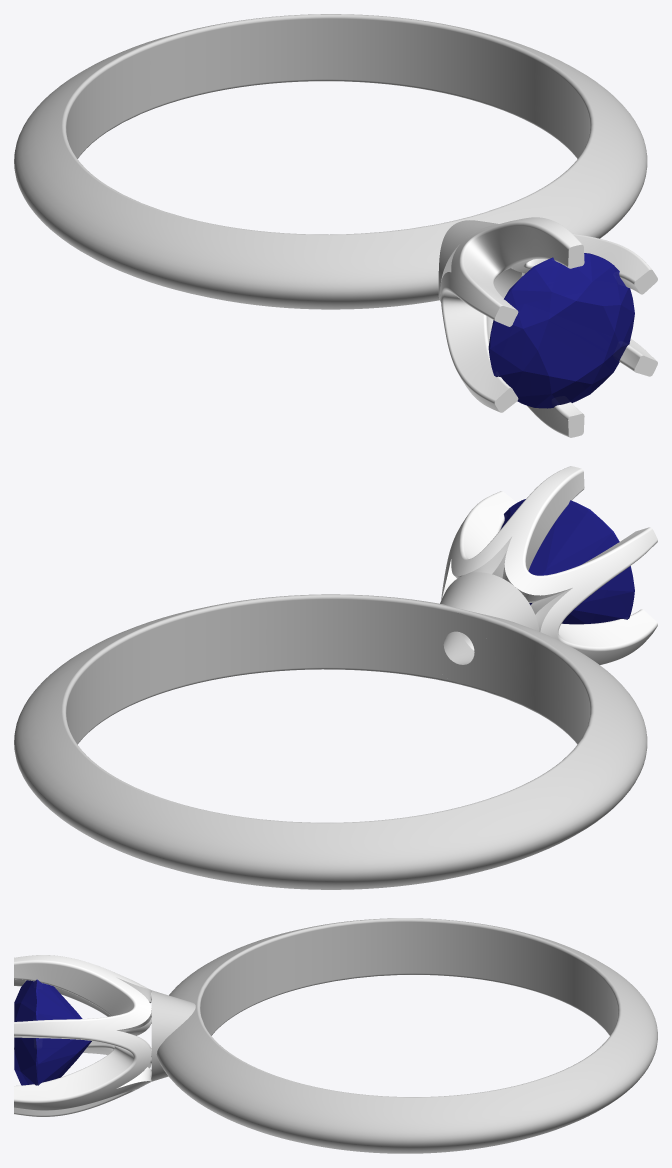
Rendered from ring.glb.
3 renders of one model, top to bottom at view 1: azimuth 30°, elevation 25°; view 2: azimuth 150°, elevation 25°; view 3: azimuth 270°, elevation 25°, orthographic. The views are drawn at different scales.
Visible parts, largest first — view 1: unspecified, Diamond_Round; view 2: unspecified, Diamond_Round; view 3: unspecified, Diamond_Round.
Part boxes in pixels (x1=…): unspecified: x1=14, y1=14, x2=657, y2=437; Diamond_Round: x1=488, y1=253, x2=634, y2=408; unspecified: x1=14, y1=466, x2=657, y2=889; Diamond_Round: x1=500, y1=499, x2=634, y2=624; unspecified: x1=14, y1=918, x2=657, y2=1153; Diamond_Round: x1=14, y1=979, x2=91, y2=1085.
Size of the model in its own units: 0.0191 by 0.00655 by 0.0243.
